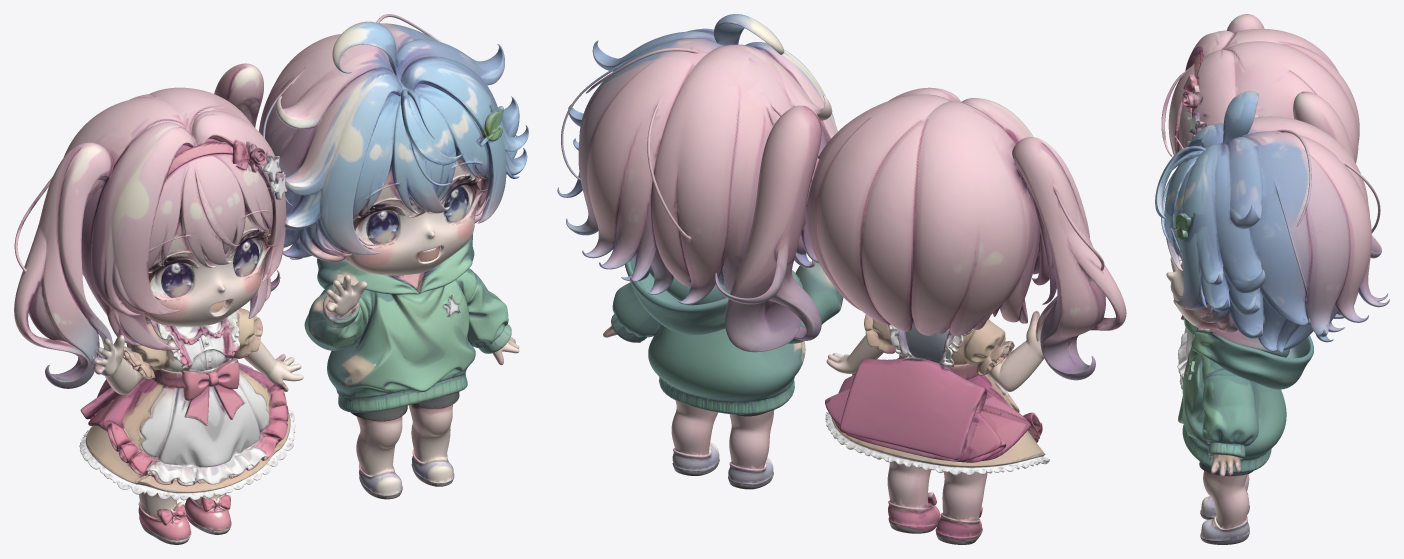
The model's file is chibi_duo.glb.
3 views of the same model, side by side, from view 1: azimuth 30°, elevation 25°; view 2: azimuth 150°, elevation 25°; view 3: azimuth 270°, elevation 25° (orthographic). The views are drawn at different scales.
Parts seen in each view (by area): view 1: node_0; view 2: node_0; view 3: node_0.
Boxes of the visible parts, left/top/right/bottom form: node_0: left=14, top=14, right=528, bottom=544; node_0: left=557, top=14, right=1126, bottom=544; node_0: left=1155, top=14, right=1389, bottom=544.
Bounding box in the file's own units: 1.07 × 0.9068 × 0.4588.
1 material, 1 textured.
